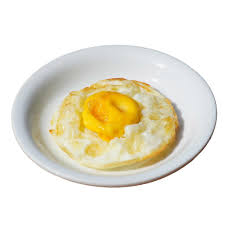Telur ceplok: (48, 78, 180, 171)
